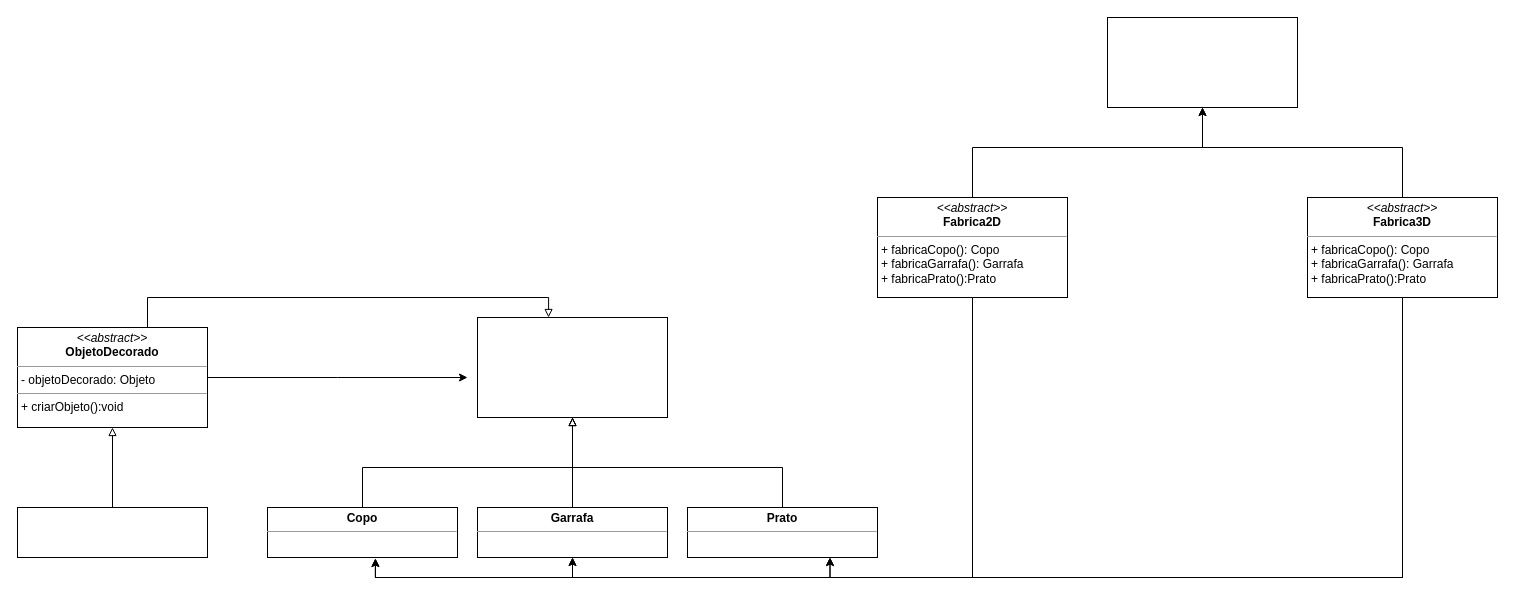
Some shapes in this 1515 by 603 pixel diagram are drawn without their labels. The centre of each missing label's shape, as x and y in pixels:
<<abstract>> FabricaObjetos + cria2D(): String + cria3D(): String: [1202,62]
<<abstract>> Objeto - descricao: String + criarObjeto():void: [572,367]
Material: [112,532]
